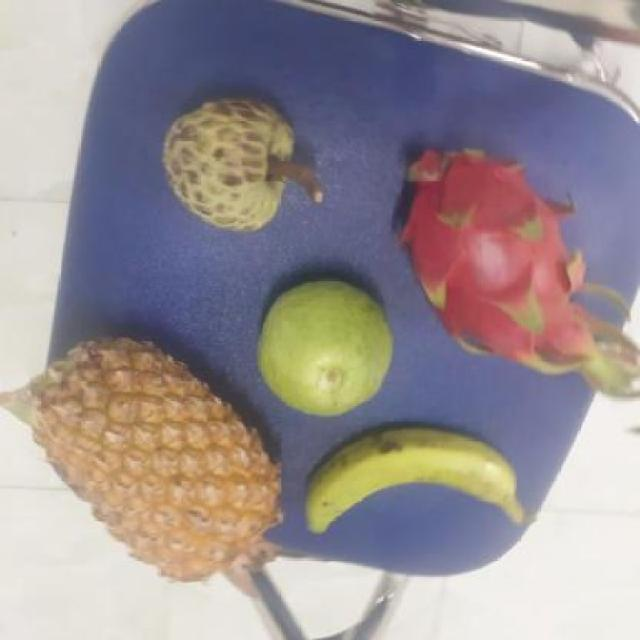banana: (292, 420, 520, 565)
dragon fruit: (391, 143, 580, 363)
guava: (252, 276, 395, 416)
pineapple: (25, 332, 276, 575)
sugar apple: (153, 97, 307, 231)
